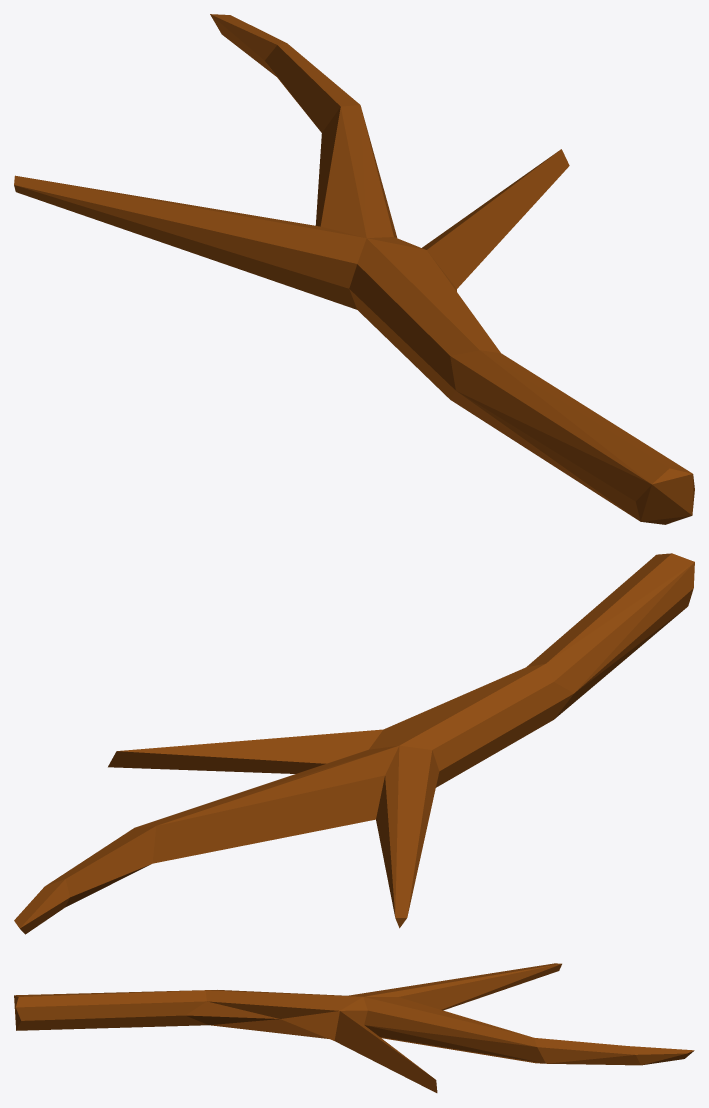
The model's file is branch.fbx.
3 views of the same model, one above another, from view 1: azimuth 30°, elevation 25°; view 2: azimuth 150°, elevation 25°; view 3: azimuth 270°, elevation 25° (orthographic). The views are drawn at different scales.
Parts seen in each view (by area): view 1: Cube; view 2: Cube; view 3: Cube.
Part boxes in pixels (bbox=[...]): Cube: bbox=[14, 14, 694, 524]; Cube: bbox=[14, 553, 694, 934]; Cube: bbox=[14, 963, 694, 1092].
Size of the model in its own units: 332 by 45.95 by 778.
